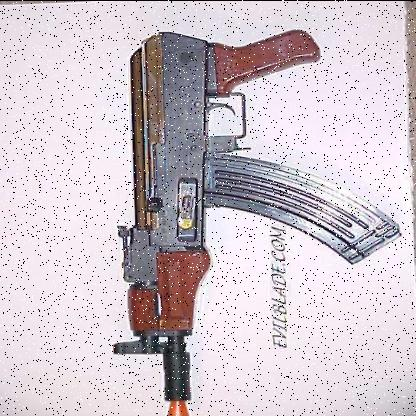rifle: (95, 16, 393, 405)
